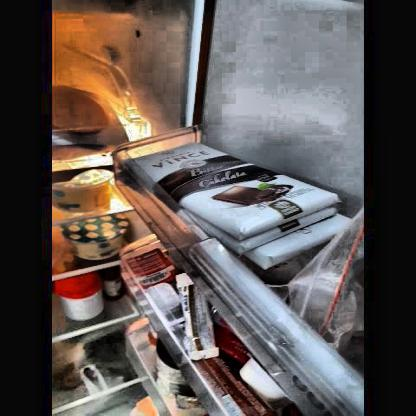chocolate: (131, 146, 334, 238)
salami: (51, 87, 109, 137)
yoghurt: (64, 220, 129, 256), (54, 181, 113, 210)
